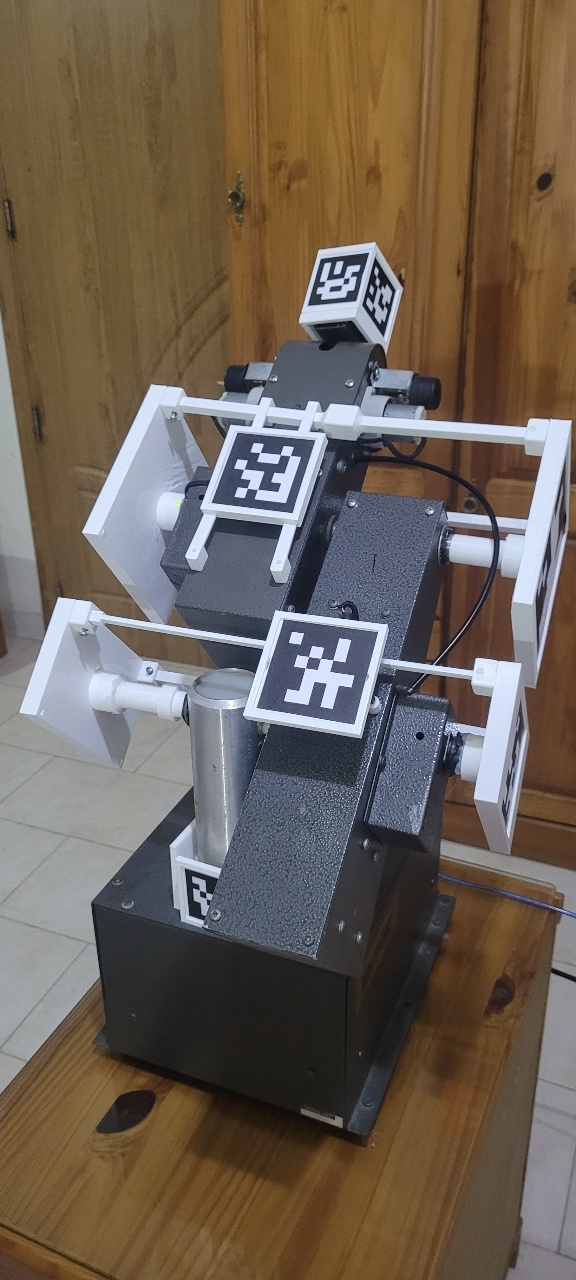Robot: (17, 242, 576, 981)
